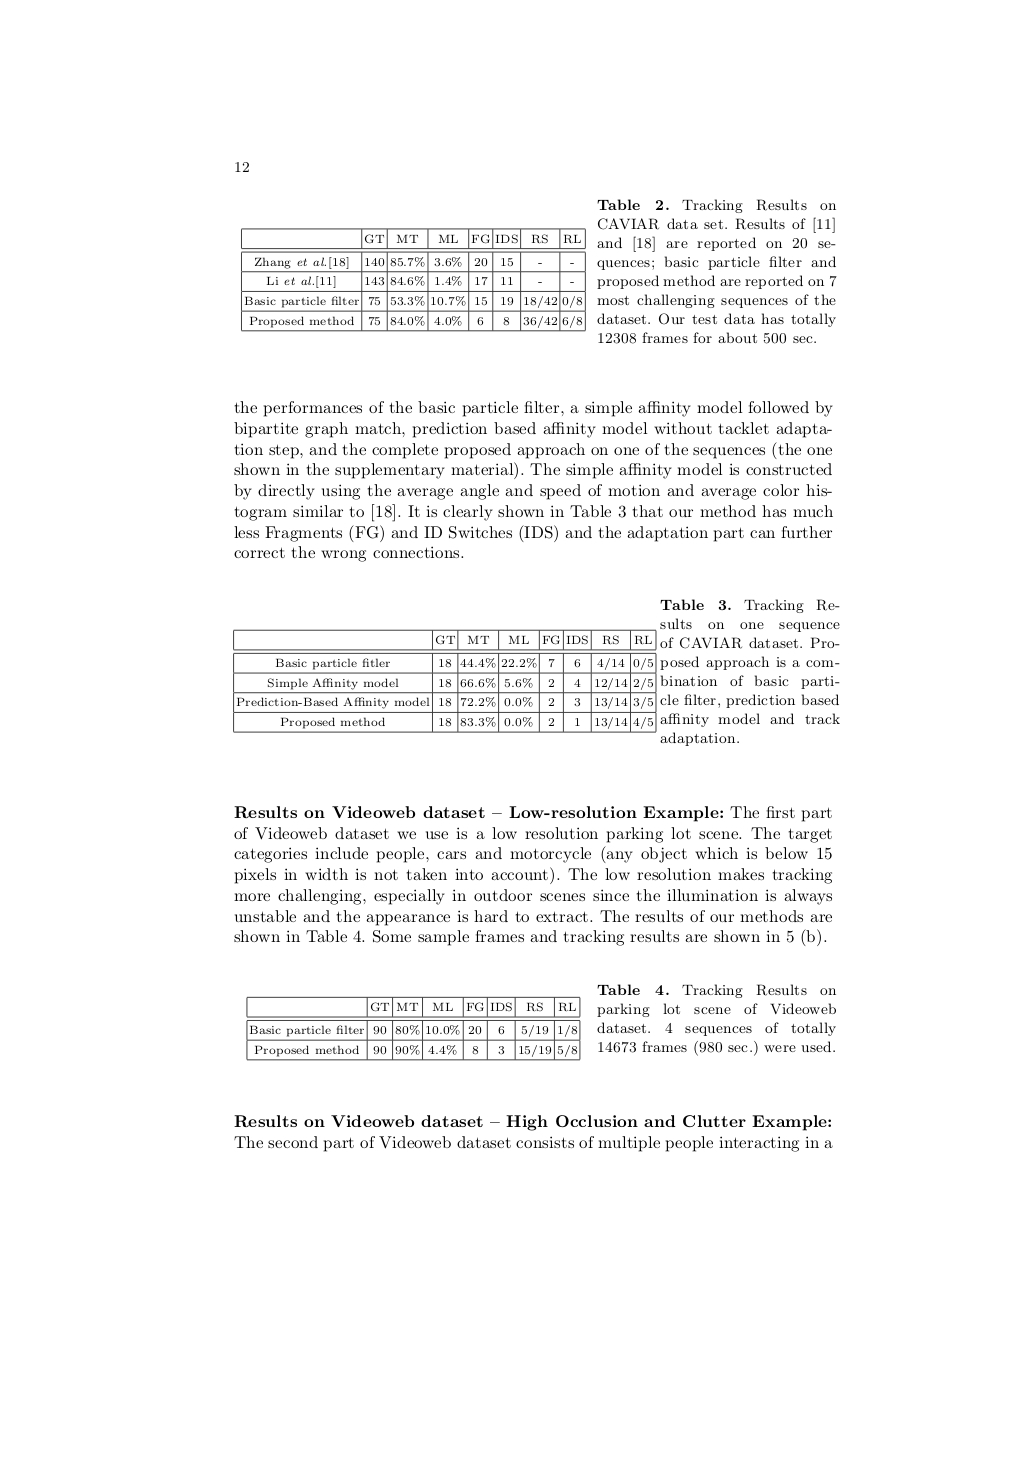Table: (233, 623, 660, 732), (241, 228, 585, 332), (246, 996, 580, 1060)
